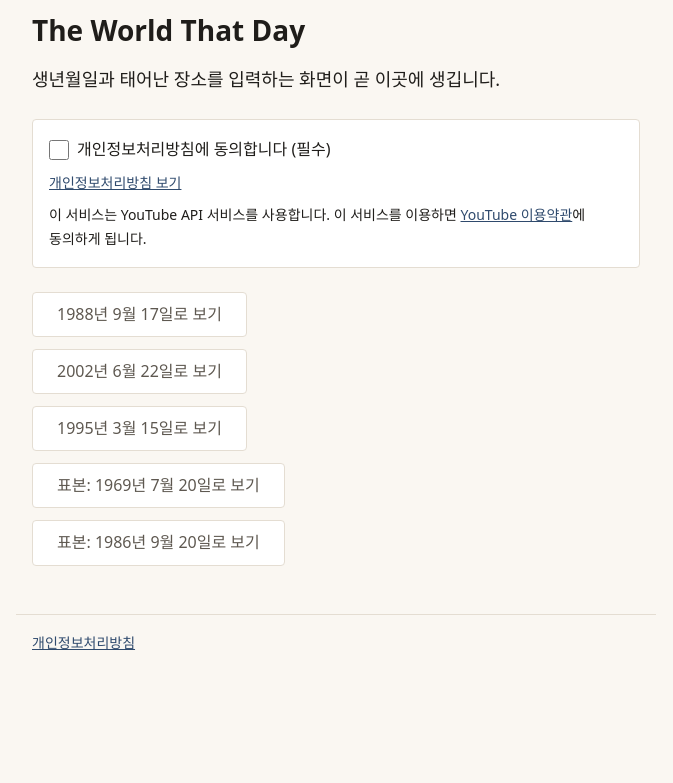
Scenario: demo 2002-06-22 (데모 표 2행) › media fixture: the "스페인" sentence once, source line 「6월 22일」, one KOGL Type 1 photo
Click the checkbox labelled "개인정보처리방침에 동의합니다 (필수)" at [59, 150], box [49,140,69,160]
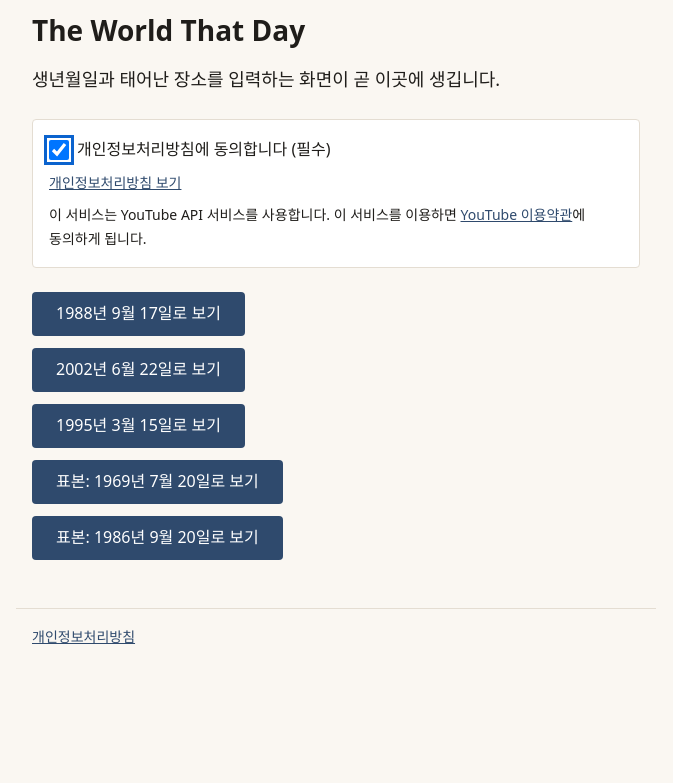
Click the button "2002년 6월 22일로 보기" at [138, 370], box [32,348,245,392]
(page scrolled)
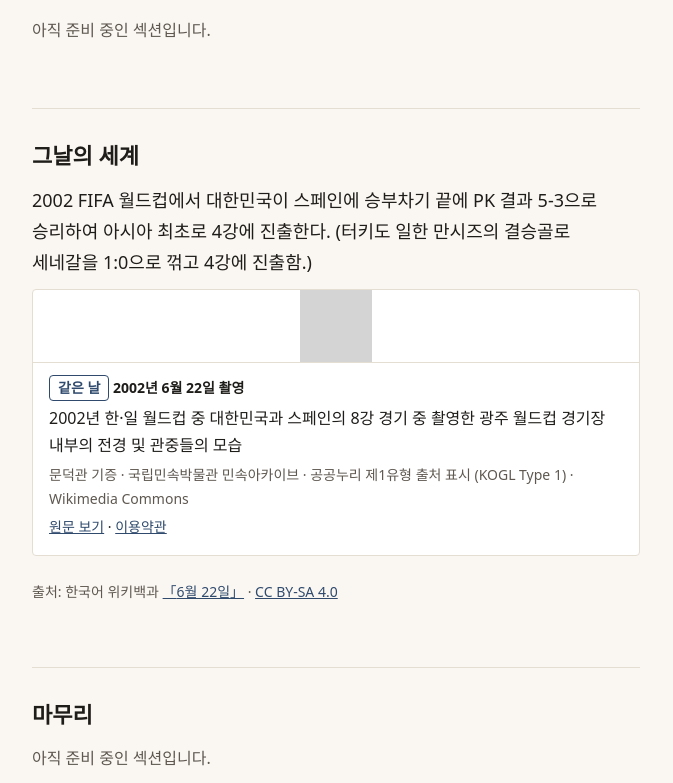
Expected: the text "2002 FIFA 월드컵에서 대한민국이 스페인에 승부차기 끝에 PK 결과 5-3으로 승리하여 아시아 최초로 4강에 진출한다. (터키도 일한 만시즈의 결승골로 세네갈을 1:0으로 꺾고 4강에 진출함.)" is shown once, [32,185,640,277]
Expected: the number of list items is 1, [32,185,640,603]
Expected: the element that starts with "같은 날" shows "KOGL Type 1", [49,465,574,508]
